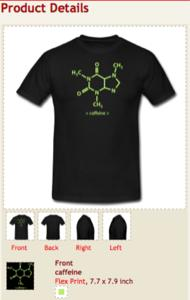C_T-shirt: (13, 29, 180, 207), (42, 213, 65, 241), (8, 215, 33, 240)
